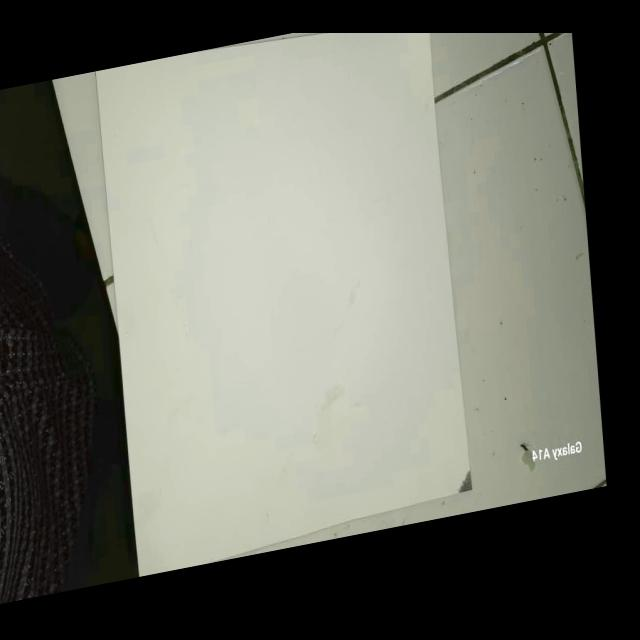TLC Plate: (96, 33, 472, 549)
